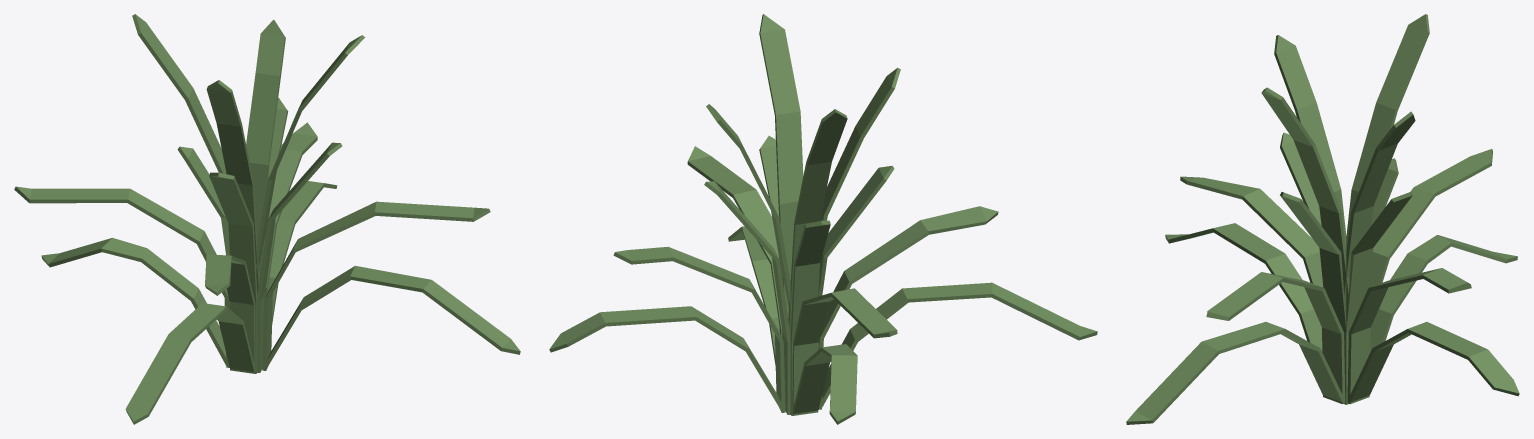
File: plant_3.glb
3 views of the same model, side by side, from view 1: azimuth 30°, elevation 25°; view 2: azimuth 150°, elevation 25°; view 3: azimuth 270°, elevation 25° (orthographic).
Parts seen in each view (by area): view 1: Plant_3; view 2: Plant_3; view 3: Plant_3.
Part boxes in pixels (x1,y1,x2,y2): Plant_3: (14,14,520,424); Plant_3: (549,14,1097,424); Plant_3: (1126,14,1519,424).
Bounding box in the file's own units: 1.09 × 0.9438 × 0.9724.
